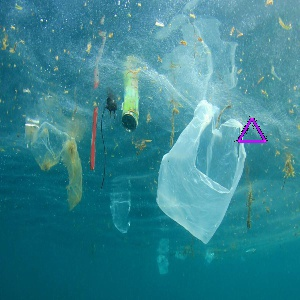triangle: (235, 114, 268, 145)
